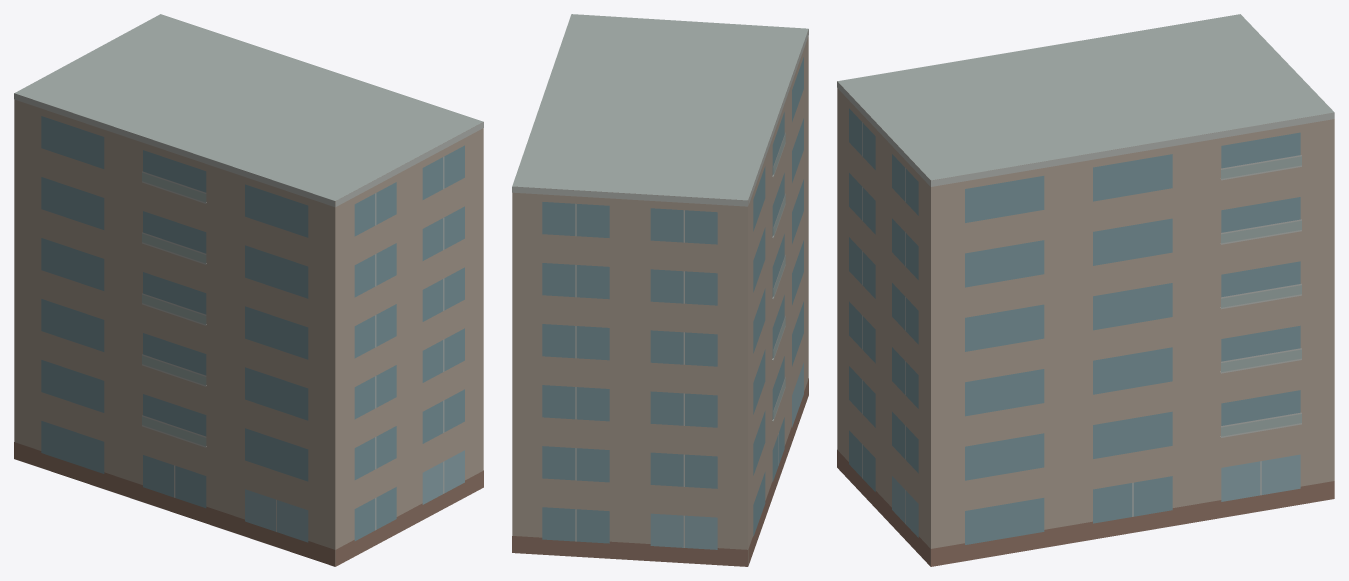
File: survey-upis-32947993.glb
The picture shows the model from 3 angles, left to right: view 1: azimuth 30°, elevation 25°; view 2: azimuth 150°, elevation 25°; view 3: azimuth 270°, elevation 25°; orthographic projection. The views are drawn at different scales.
Visible parts, largest first — view 1: survey-upis-32947993.tmp; view 2: survey-upis-32947993.tmp; view 3: survey-upis-32947993.tmp.
Part boxes in pixels (left/top/right/bottom): survey-upis-32947993.tmp: left=14, top=14, right=483, bottom=566; survey-upis-32947993.tmp: left=512, top=14, right=808, bottom=566; survey-upis-32947993.tmp: left=837, top=14, right=1334, bottom=566.
Size of the model in its own units: 13.32 by 14.4 by 16.81.
